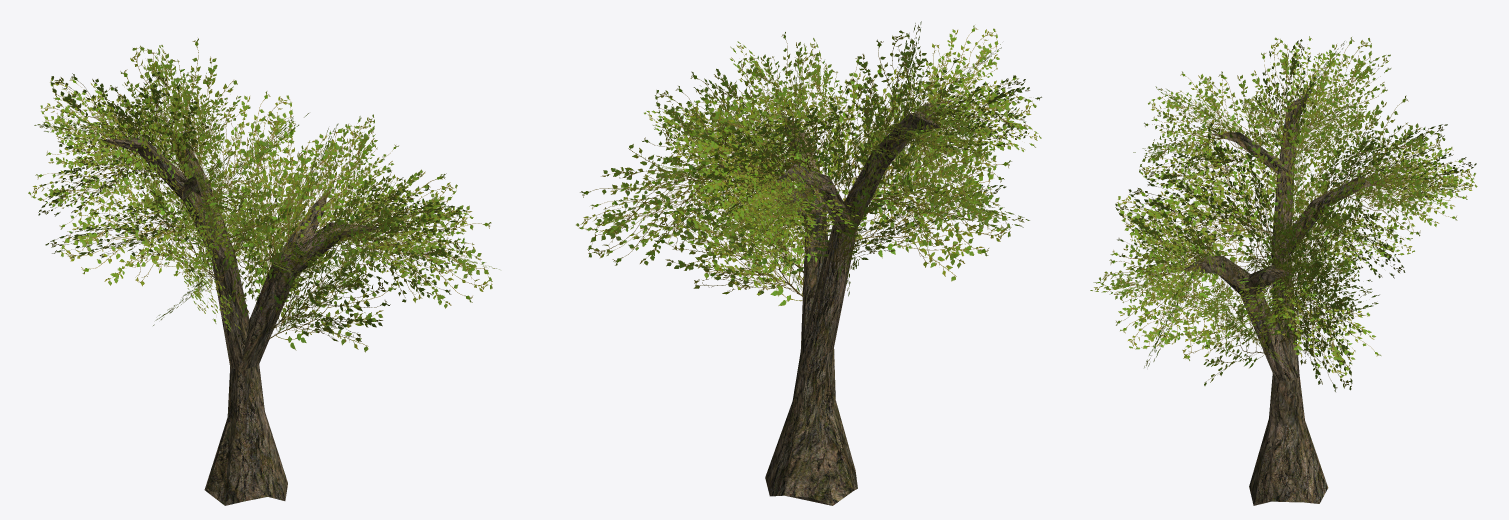
Rendered from massive_swamptree_01_b.obj.
3 renders of one model, left to right at view 1: azimuth 30°, elevation 25°; view 2: azimuth 150°, elevation 25°; view 3: azimuth 270°, elevation 25°, orthographic. The views are drawn at different scales.
Parts seen in each view (by area): view 1: swamptree128; view 2: swamptree128; view 3: swamptree128.
Boxes of the visible parts, x1,y1,x2,y2 form: swamptree128: (28, 38, 499, 505); swamptree128: (576, 21, 1041, 505); swamptree128: (1090, 36, 1477, 505).
Size of what is drawn, in the model's own units: 22.29 by 23.84 by 20.67.
Materials: 2 (2 with a texture image).
